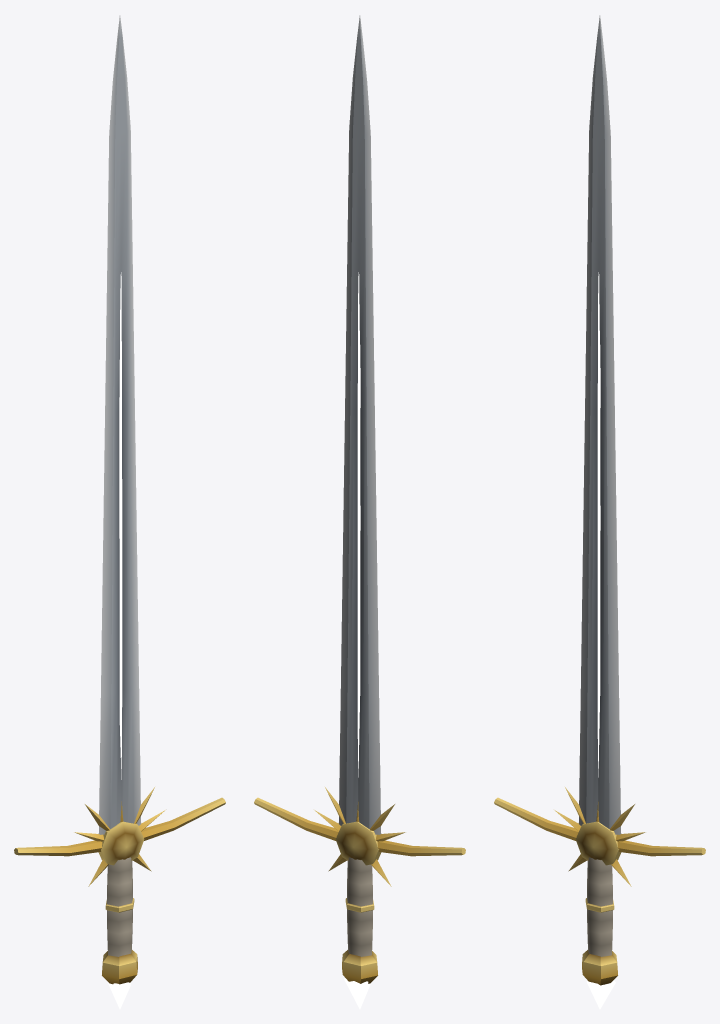
File: sword_dawn.glb
3 views of the same model, side by side, from view 1: azimuth 30°, elevation 25°; view 2: azimuth 150°, elevation 25°; view 3: azimuth 330°, elevation 25° (orthographic).
Parts seen in each view (by area): view 1: sword_dawn; view 2: sword_dawn; view 3: sword_dawn.
Part boxes in pixels (x1,y1,x2,y2): sword_dawn: (14,15,225,1009); sword_dawn: (254,15,465,1009); sword_dawn: (494,15,705,1009).
Bounding box in the file's own units: 0.2413 × 1.1 × 0.0327.
